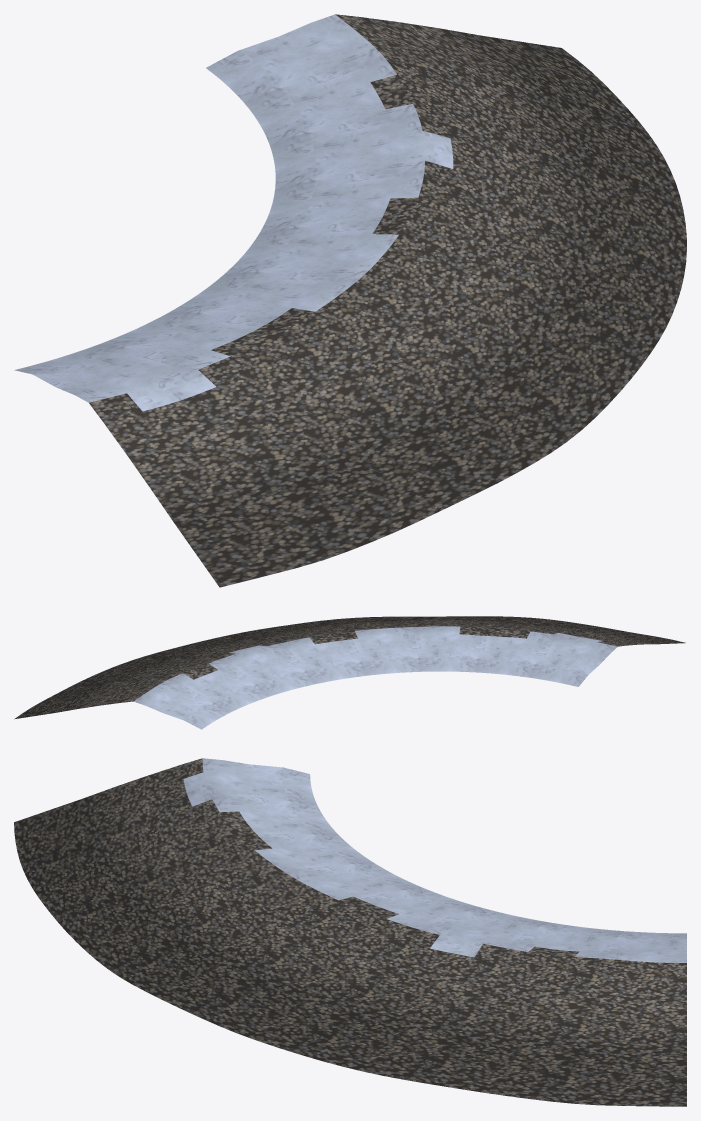
Rendered from beach_shingle_outer_v5_winter.glb.
3 views of the same model, one above another, from view 1: azimuth 30°, elevation 25°; view 2: azimuth 150°, elevation 25°; view 3: azimuth 270°, elevation 25° (orthographic). The views are drawn at different scales.
Parts seen in each view (by area): view 1: beach_shingle_outer; view 2: beach_shingle_outer; view 3: beach_shingle_outer.
Boxes of the visible parts, <box> form: beach_shingle_outer: <box>14,14,686,587</box>; beach_shingle_outer: <box>14,616,685,729</box>; beach_shingle_outer: <box>14,758,686,1106</box>.
Size of the model in its own units: 10 by 1.1 by 10.
2 materials, 2 textured.
